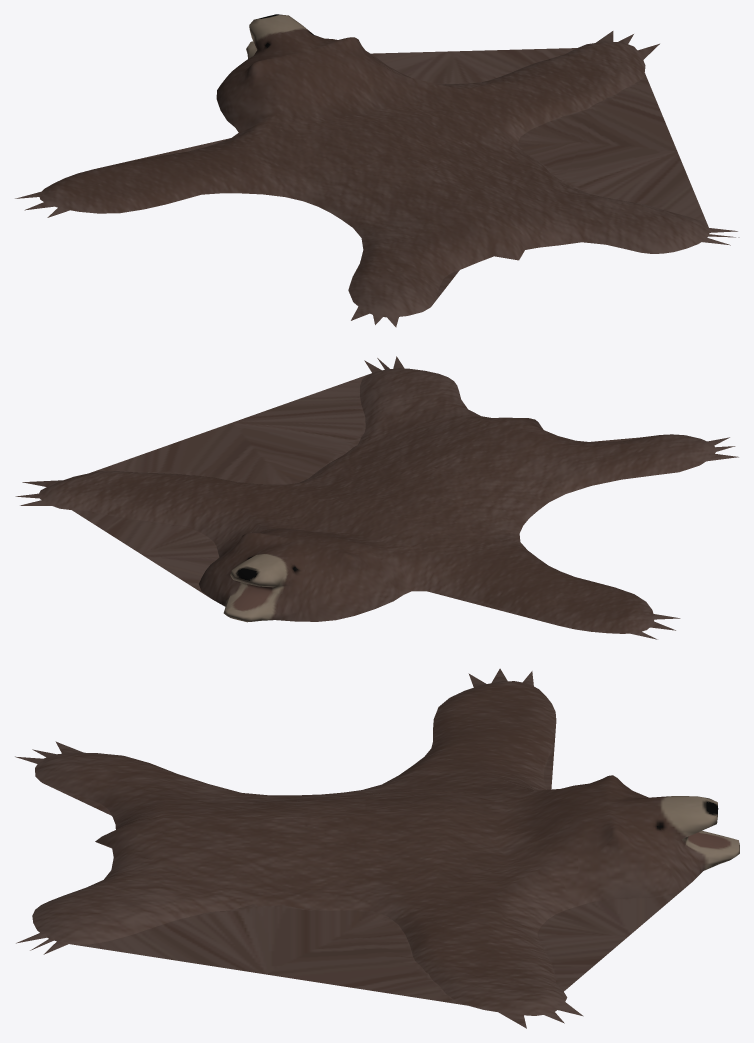
File: bearskin rug.fbx
The picture shows the model from 3 angles, top to bottom: view 1: azimuth 30°, elevation 25°; view 2: azimuth 150°, elevation 25°; view 3: azimuth 270°, elevation 25°; orthographic projection. The views are drawn at different scales.
Parts seen in each view (by area): view 1: polySurface421; view 2: polySurface421; view 3: polySurface421.
Boxes of the visible parts, x1=… form: polySurface421: x1=15, y1=14, x2=739, y2=327; polySurface421: x1=15, y1=356, x2=738, y2=639; polySurface421: x1=15, y1=668, x2=739, y2=1028.
Bounding box in the file's own units: 2.87 × 0.195 × 2.44.
Materials: 1 (1 with a texture image).
